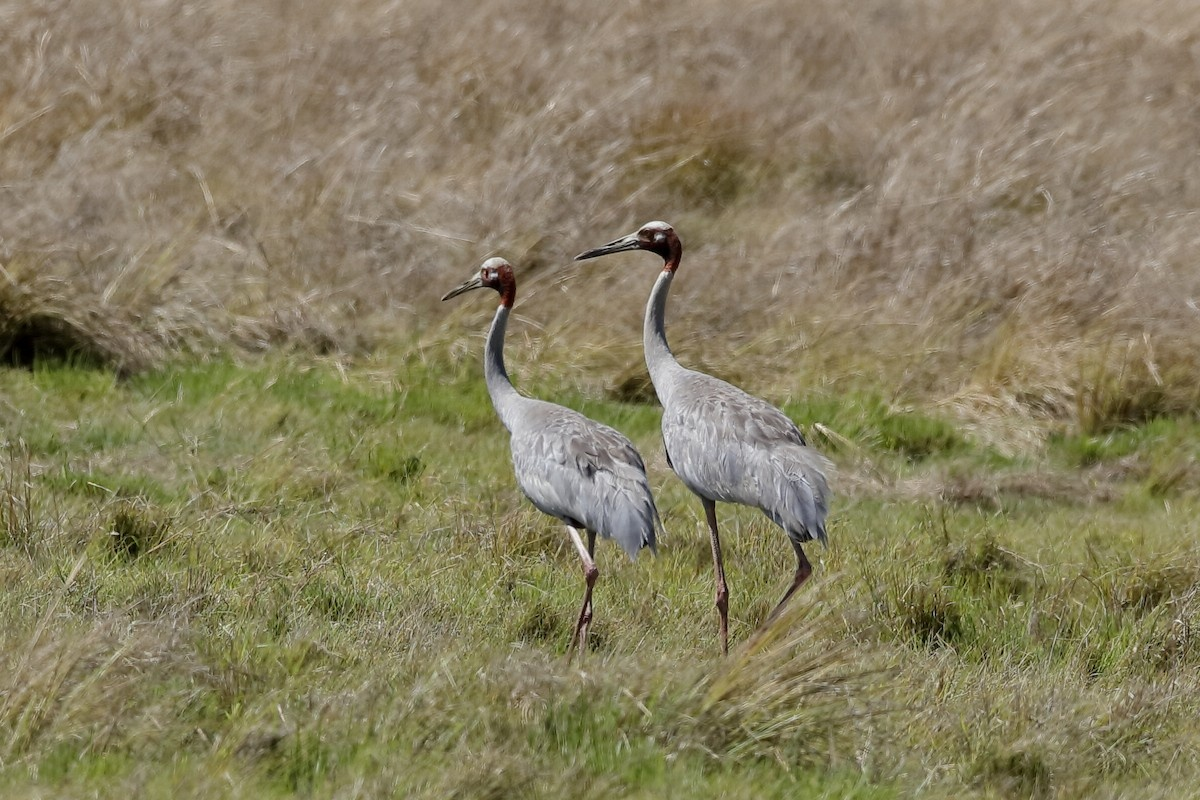crane: (581, 213, 838, 632), (438, 254, 652, 668)
